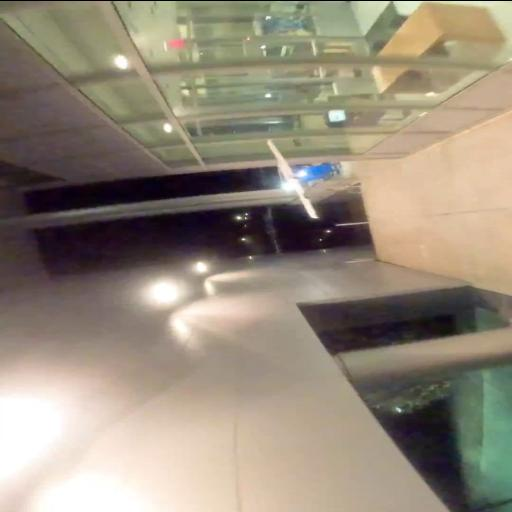uav: (261, 136, 327, 220)
